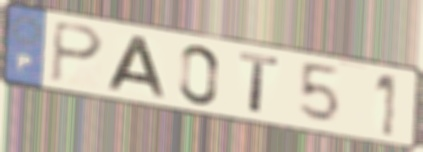0: (178, 43, 221, 106)
1: (371, 72, 399, 139)
5: (296, 60, 343, 127)
A: (105, 34, 169, 101)
P: (49, 19, 106, 85)
T: (238, 50, 283, 117)
